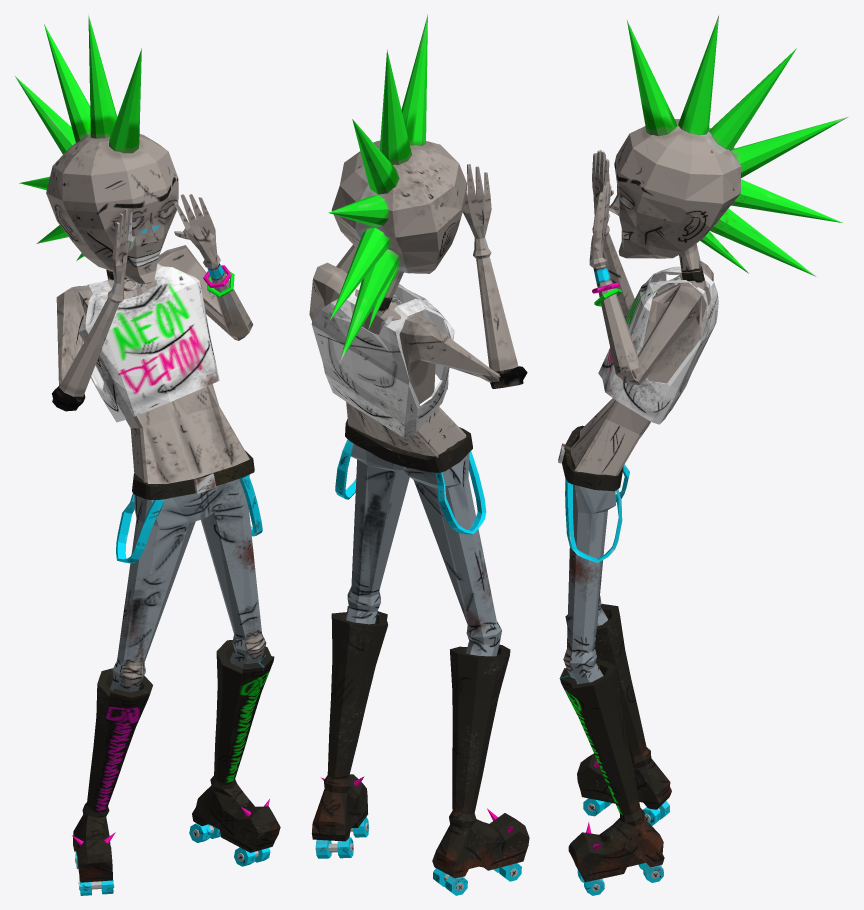
The model's file is punkAnimation_000019.obj.
The picture shows the model from 3 angles, left to right: view 1: azimuth 30°, elevation 25°; view 2: azimuth 150°, elevation 25°; view 3: azimuth 270°, elevation 25°; orthographic projection. The views are drawn at different scales.
Parts seen in each view (by area): view 1: Cube.004_Cube.003; view 2: Cube.004_Cube.003; view 3: Cube.004_Cube.003.
Boxes of the visible parts, bbox=[...] form: Cube.004_Cube.003: bbox=[15, 15, 280, 895]; Cube.004_Cube.003: bbox=[309, 14, 529, 895]; Cube.004_Cube.003: bbox=[558, 15, 848, 895].
Size of the model in its own units: 1.92 by 7.38 by 2.36.
